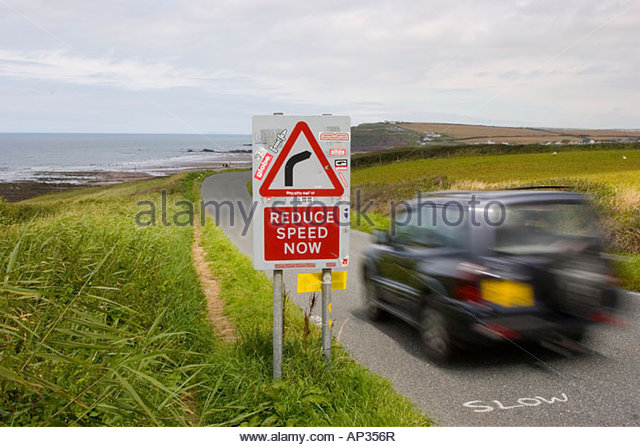Bend_to_right: (256, 122, 346, 200)
